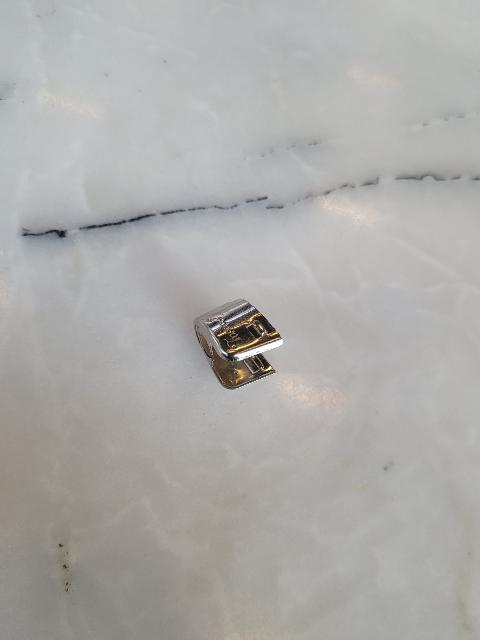Metal: (189, 294, 286, 398)
